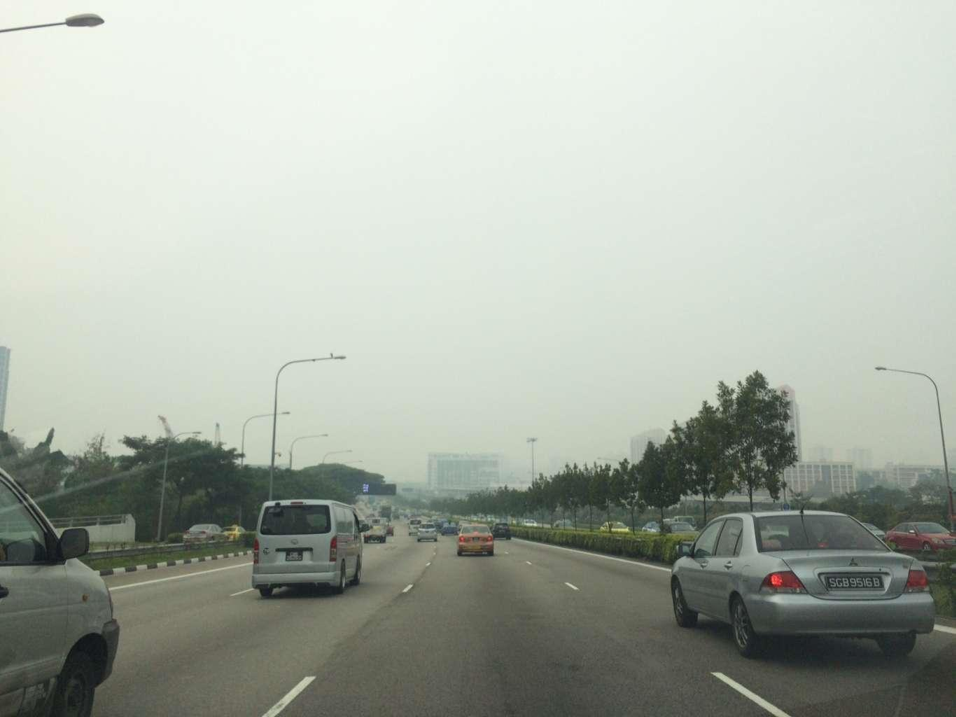bus: (374, 504, 393, 526)
car: (670, 494, 935, 658), (1, 464, 119, 717), (252, 498, 372, 598), (881, 521, 955, 555), (453, 523, 495, 557), (835, 521, 886, 546), (182, 523, 231, 549), (664, 521, 701, 541), (362, 517, 388, 545), (221, 524, 250, 543), (599, 521, 631, 537), (671, 516, 699, 534), (415, 522, 438, 543), (489, 522, 512, 541), (640, 521, 664, 538), (553, 518, 578, 534), (407, 518, 423, 537), (439, 521, 459, 536), (520, 518, 538, 531), (426, 518, 440, 533), (383, 523, 396, 537), (434, 518, 449, 530)
